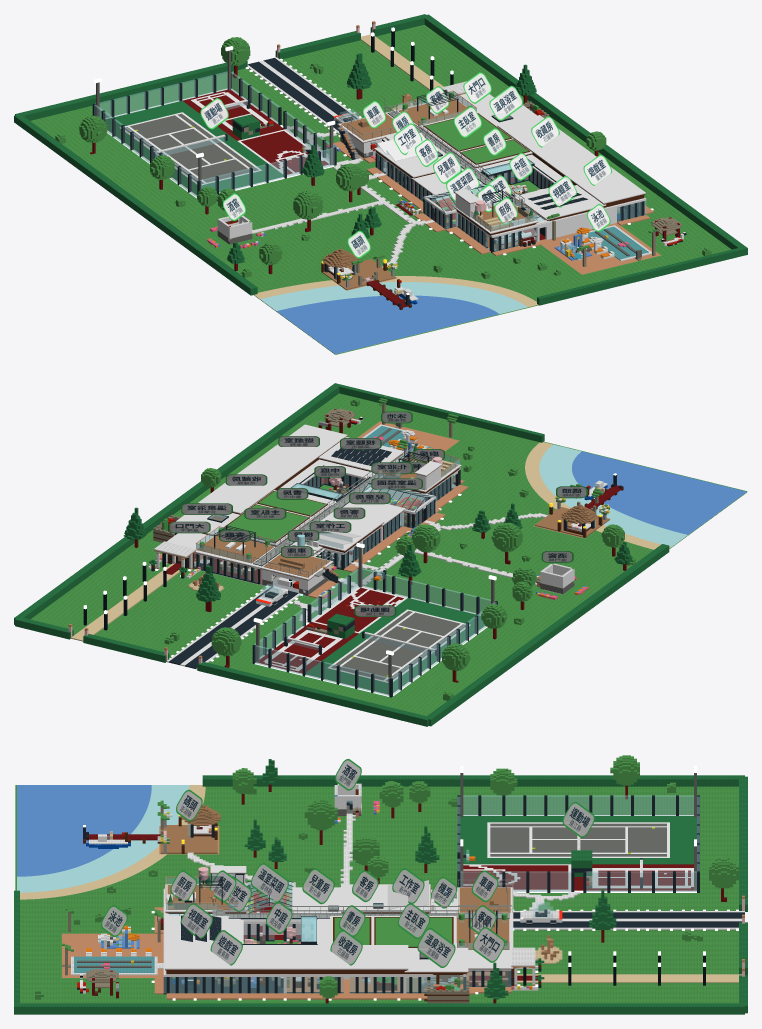
The model's file is mansion-lego.glb.
3 views of the same model, one above another, from view 1: azimuth 30°, elevation 25°; view 2: azimuth 150°, elevation 25°; view 3: azimuth 270°, elevation 25° (orthographic). The views are drawn at different scales.
Bounding box in the file's own units: 0.1867 × 0.0195 × 0.25.
Materials: 161 (73 with a texture image).
